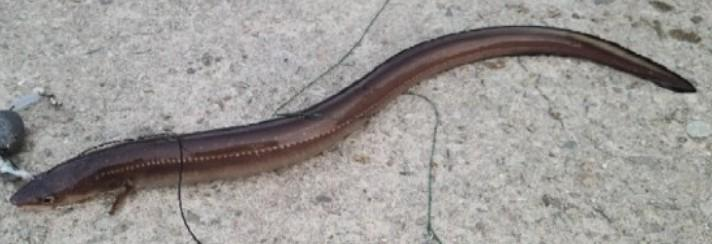fish: (10, 27, 695, 214)
